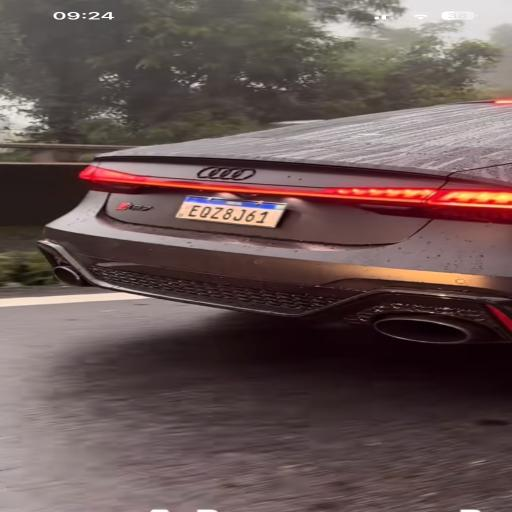detec-o-placas: (131, 172, 362, 252)
